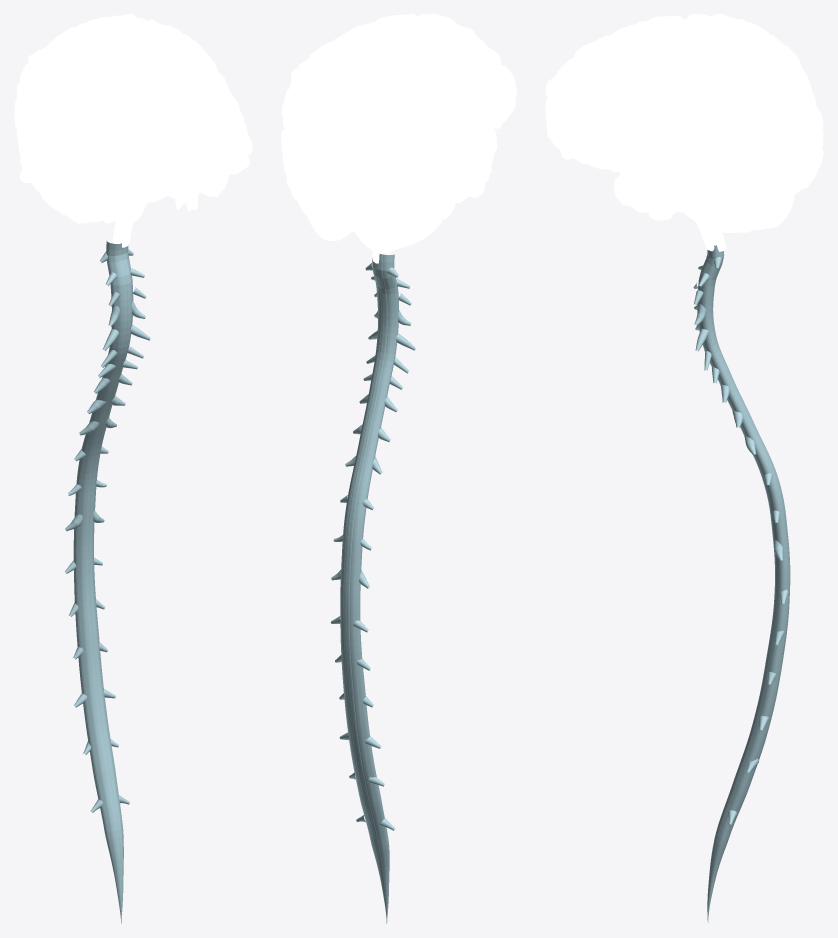
Rendered from central-nervous-system.glb.
The picture shows the model from 3 angles, left to right: view 1: azimuth 30°, elevation 25°; view 2: azimuth 150°, elevation 25°; view 3: azimuth 270°, elevation 25°; orthographic projection.
Visible parts, largest first — view 1: Spinal dura, Middle frontal gyrus.r, Superior frontal gyrus.r, Precentral gyrus.r, Superior frontal gyrus.l, Falx cerebri, Middle frontal gyrus.l, Postcentral gyrus.r, Middle temporal gyrus.r, Superior temporal gyrus (Lateral part).r, Supramarginal gyrus.r, Orbital gyri (Frontomarginal gyrus and sulcus*).r (+9 smaller); view 2: Spinal dura, Angular gyrus.r, Falx cerebri, Superior parietal lobule.r, Postcentral gyrus.r, Supramarginal gyrus.r, Lateral occipital gyrus (Middle occipital gyrus*).r, Precentral gyrus.r, Angular gyrus.l, Middle temporal gyrus.r, Superior parietal lobule.l, Middle frontal gyrus.r (+18 smaller); view 3: Spinal dura, Middle frontal gyrus.l, Precentral gyrus.l, Middle temporal gyrus.l, Superior frontal gyrus.l, Falx cerebri, Postcentral gyrus.l, Supramarginal gyrus.l, Superior temporal gyrus (Lateral part).l, Angular gyrus.l, Inferior temporal gyrus.l, Superior parietal lobule.l (+11 smaller).
Part boxes in pixels (bbox=[...]): Spinal dura: bbox=[65, 241, 150, 923]; Middle frontal gyrus.r: bbox=[82, 59, 177, 184]; Superior frontal gyrus.r: bbox=[109, 37, 197, 168]; Precentral gyrus.r: bbox=[57, 34, 112, 151]; Superior frontal gyrus.l: bbox=[138, 32, 225, 167]; Falx cerebri: bbox=[85, 17, 203, 211]; Middle frontal gyrus.l: bbox=[173, 38, 252, 154]; Postcentral gyrus.r: bbox=[38, 27, 93, 134]; Middle temporal gyrus.r: bbox=[14, 111, 96, 218]; Superior temporal gyrus (Lateral part).r: bbox=[20, 118, 107, 207]; Supramarginal gyrus.r: bbox=[14, 56, 51, 133]; Orbital gyri (Frontomarginal gyrus and sulcus*).r: bbox=[127, 163, 190, 193]; Spinal dura: bbox=[330, 254, 415, 923]; Angular gyrus.r: bbox=[364, 95, 442, 165]; Falx cerebri: bbox=[329, 14, 455, 229]; Superior parietal lobule.r: bbox=[347, 67, 418, 139]; Postcentral gyrus.r: bbox=[395, 52, 487, 122]; Supramarginal gyrus.r: bbox=[415, 92, 485, 159]; Lateral occipital gyrus (Middle occipital gyrus*).r: bbox=[364, 157, 415, 217]; Precentral gyrus.r: bbox=[404, 37, 498, 120]; Angular gyrus.l: bbox=[283, 66, 330, 143]; Middle temporal gyrus.r: bbox=[412, 153, 493, 197]; Superior parietal lobule.l: bbox=[313, 57, 351, 131]; Middle frontal gyrus.r: bbox=[436, 36, 516, 95]; Spinal dura: bbox=[693, 245, 790, 922]; Middle frontal gyrus.l: bbox=[549, 57, 688, 151]; Precentral gyrus.l: bbox=[637, 33, 717, 149]; Middle temporal gyrus.l: bbox=[629, 141, 783, 207]; Superior frontal gyrus.l: bbox=[545, 30, 693, 112]; Falx cerebri: bbox=[552, 21, 818, 167]; Postcentral gyrus.l: bbox=[662, 38, 739, 141]; Supramarginal gyrus.l: bbox=[687, 83, 762, 155]; Superior temporal gyrus (Lateral part).l: bbox=[617, 145, 743, 192]; Angular gyrus.l: bbox=[747, 83, 810, 154]; Inferior temporal gyrus.l: bbox=[642, 168, 779, 220]; Superior parietal lobule.l: bbox=[738, 44, 805, 95].
Bounding box in the file's own units: 0.1378 × 0.6458 × 0.1807.
